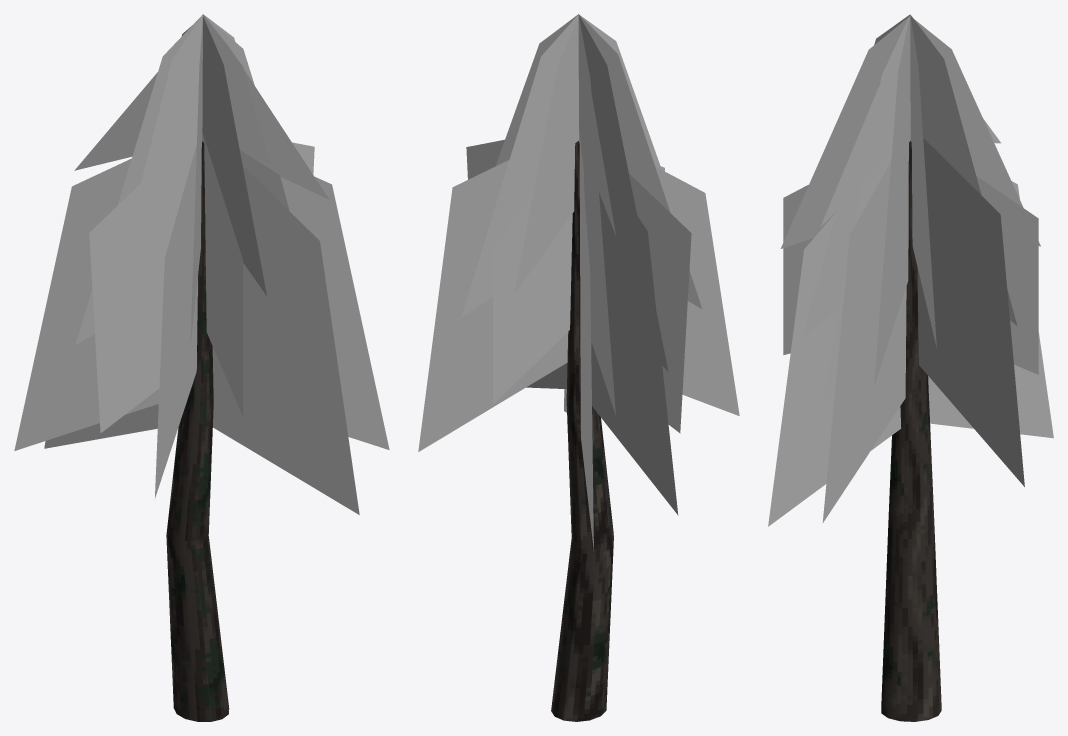
Rendered from Tree_GreyWood.fbx.
3 renders of one model, left to right at view 1: azimuth 30°, elevation 25°; view 2: azimuth 150°, elevation 25°; view 3: azimuth 270°, elevation 25°, orthographic.
Visible parts, largest first — view 1: tree_project Integrado.036; view 2: tree_project Integrado.036; view 3: tree_project Integrado.036.
Boxes of the visible parts, left/top/right/bottom form: tree_project Integrado.036: left=14, top=14, right=389, bottom=721; tree_project Integrado.036: left=418, top=14, right=739, bottom=721; tree_project Integrado.036: left=768, top=14, right=1053, bottom=721.
Bounding box in the file's own units: 373 × 863 × 321.
